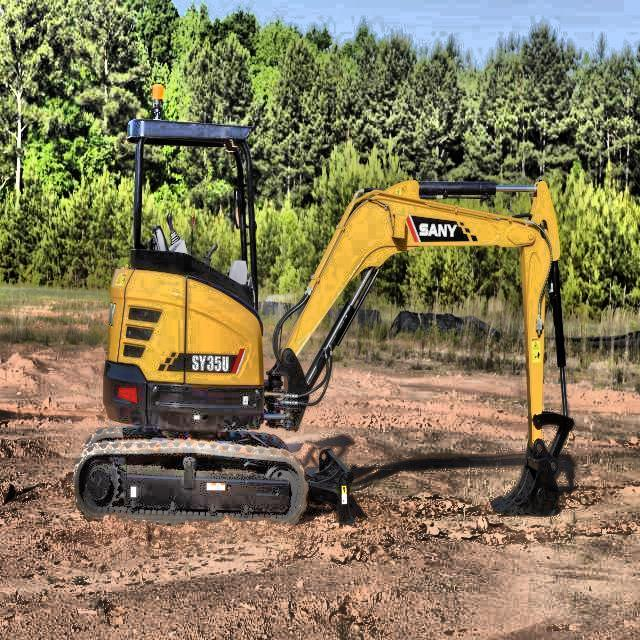excavator: (74, 84, 578, 522)
